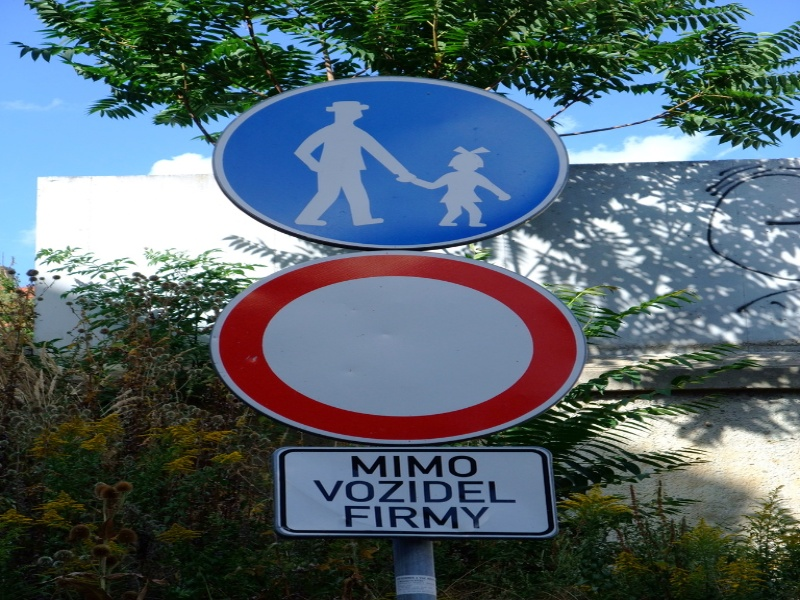pedestrian_crossing_ahead: (201, 65, 574, 252)
